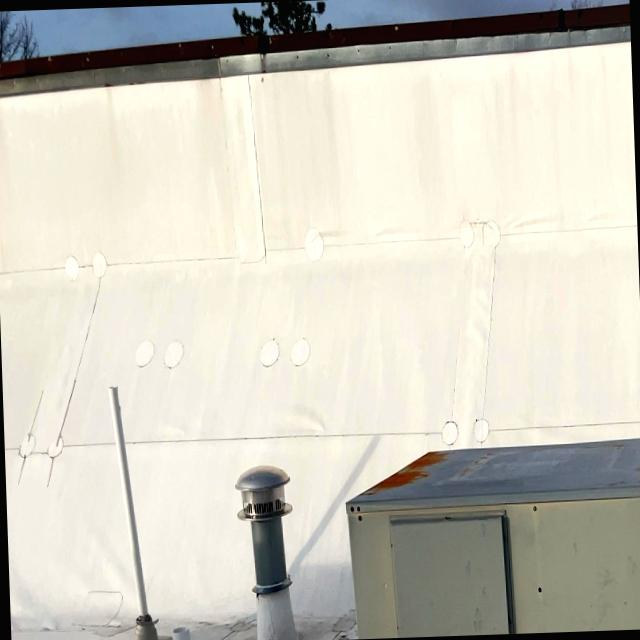GRAVITY-VENT: (226, 456, 304, 633)
RTU: (339, 411, 640, 639)
